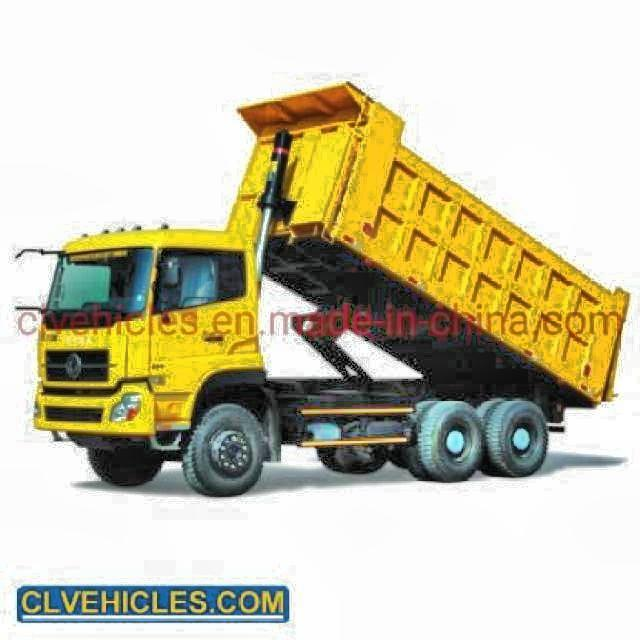dump_truck: (27, 74, 636, 506)
